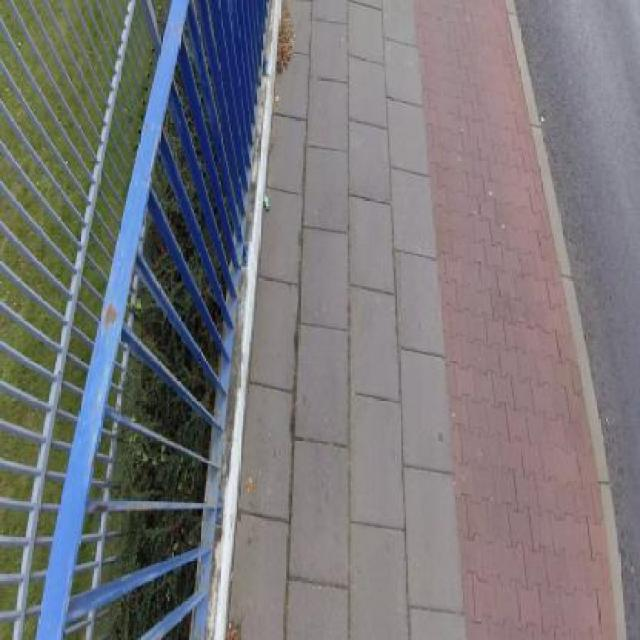Garbage: (264, 195, 271, 211)
